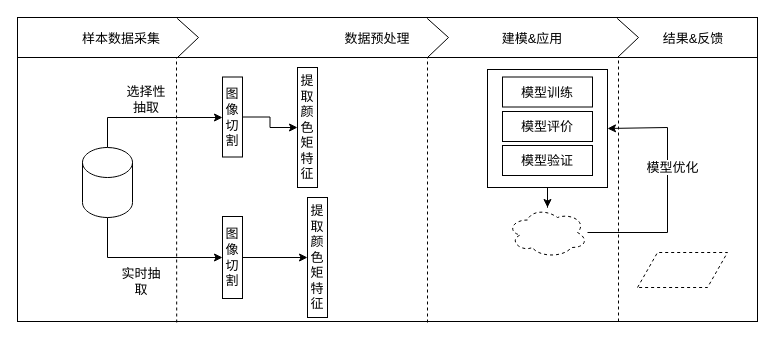
The diagram is 776 pixels wide and 341 high, and some of its shapes have lost their labels. Here are the shapes that lost their labels. From the top down, the centre of each, then its label:
At point 107,182: "图像 样本".
At point 547,232: "Model".
At point 682,270: "图像分 类结果".
